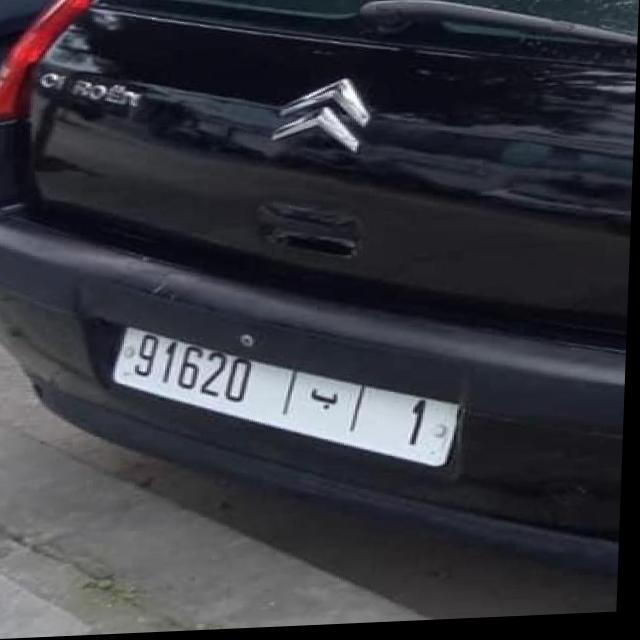License-Plate: (115, 330, 461, 471)
